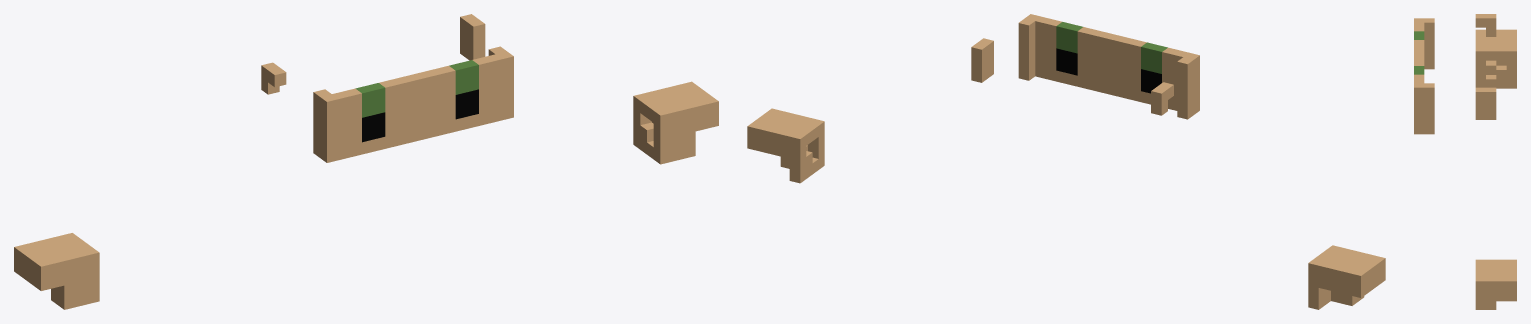
The model's file is marktest-37-Human_Tan_GreenEye#10.obj.
The picture shows the model from 3 angles, left to right: view 1: azimuth 30°, elevation 25°; view 2: azimuth 150°, elevation 25°; view 3: azimuth 270°, elevation 25°; orthographic projection. The views are drawn at different scales.
Visible parts, largest first — view 1: Human_Tan_GreenEye#10; view 2: Human_Tan_GreenEye#10; view 3: Human_Tan_GreenEye#10.
Part boxes in pixels (box(x1,y1,x2,y2)): Human_Tan_GreenEye#10: box(14, 14, 718, 309); Human_Tan_GreenEye#10: box(747, 14, 1385, 309); Human_Tan_GreenEye#10: box(1414, 14, 1516, 309).
Bounding box in the file's own units: 5.8 × 1.5 × 1.
Materials: 1 (1 with a texture image).
